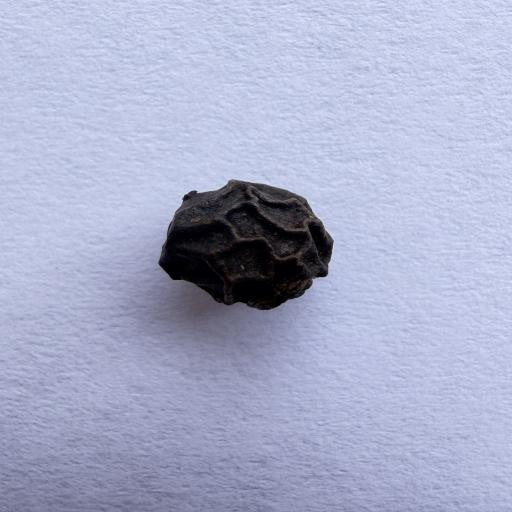Black_pepper: (66, 138, 418, 350)
